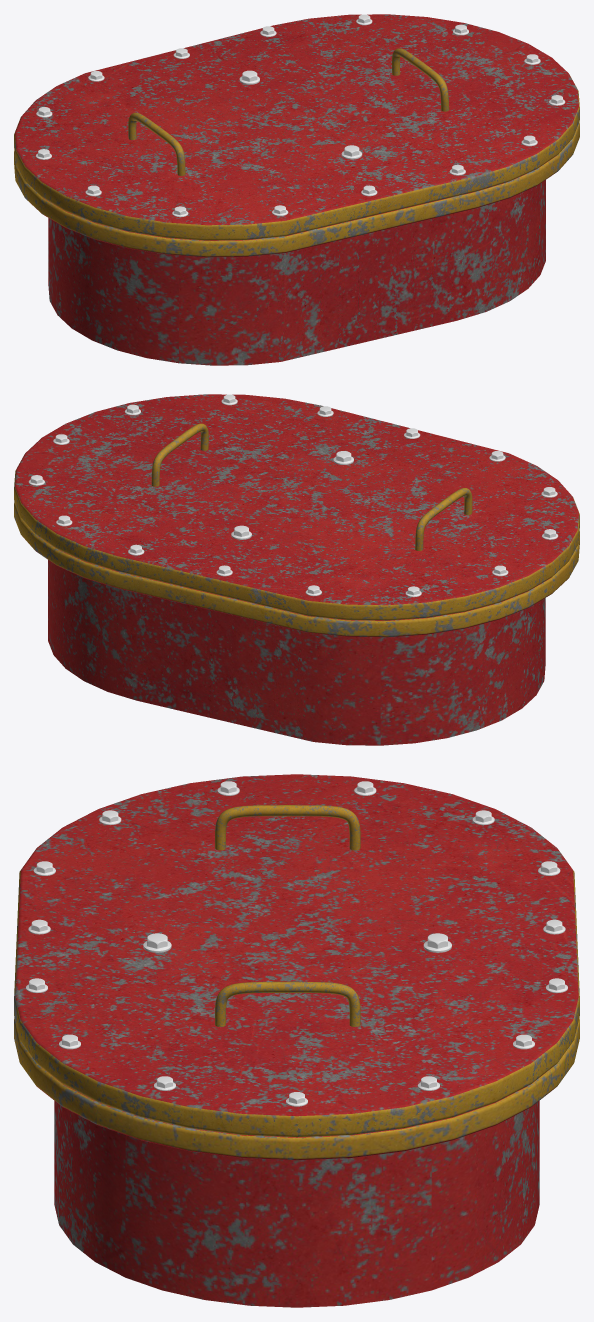
The model's file is Manhole.fbx.
The picture shows the model from 3 angles, top to bottom: view 1: azimuth 30°, elevation 25°; view 2: azimuth 150°, elevation 25°; view 3: azimuth 270°, elevation 25°; orthographic projection. The views are drawn at different scales.
Parts seen in each view (by area): view 1: Circle.021; view 2: Circle.021; view 3: Circle.021.
Boxes of the visible parts, x1,y1,x2,y2 form: Circle.021: [14, 14, 579, 365]; Circle.021: [14, 394, 579, 745]; Circle.021: [14, 774, 579, 1307].
Bounding box in the file's own units: 89.56 × 30.99 × 62.48.
3 materials, 2 textured.
